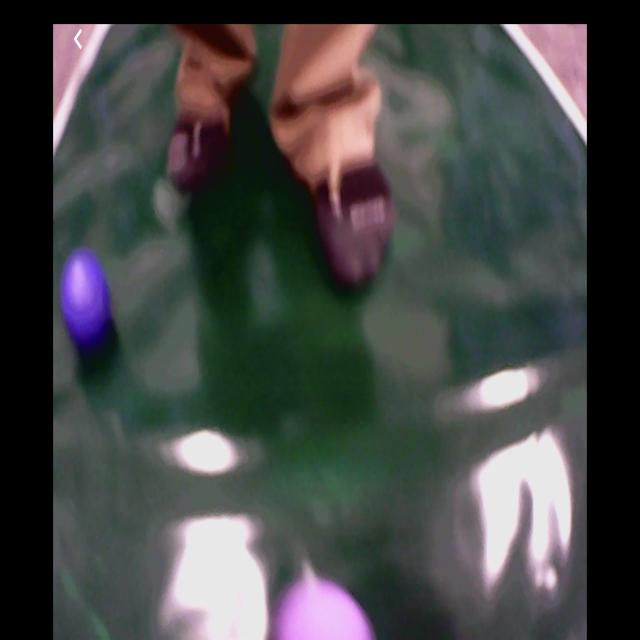ball: (265, 575, 375, 640), (63, 245, 111, 348)
